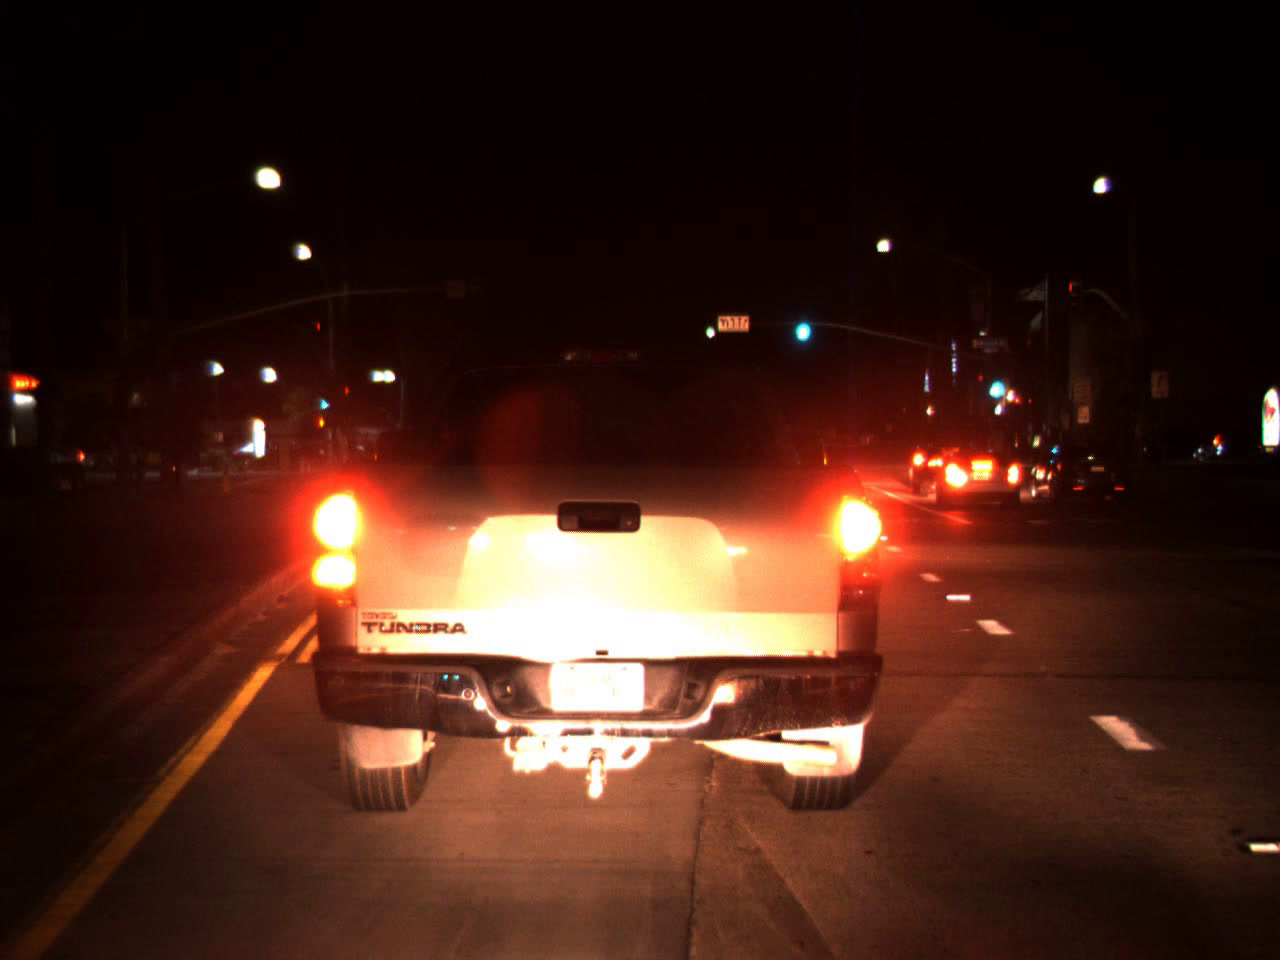go: (789, 303, 814, 345), (983, 364, 1008, 403), (316, 388, 330, 412), (703, 315, 715, 342)
